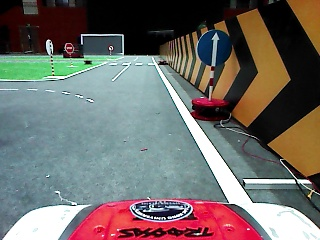straight: (195, 29, 234, 66)
